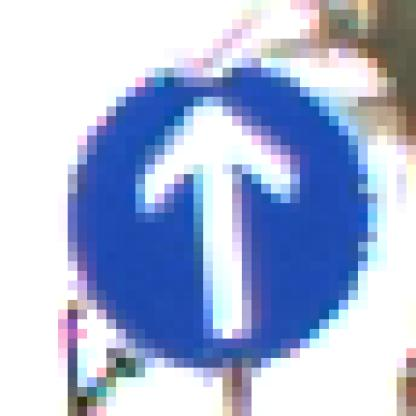AheadOnly: (59, 59, 369, 369)
